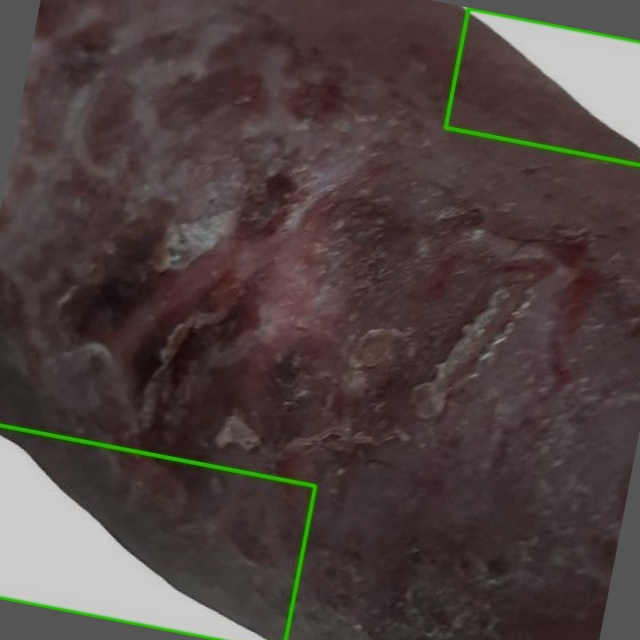Eczema: (0, 425, 315, 639), (445, 8, 639, 166)
